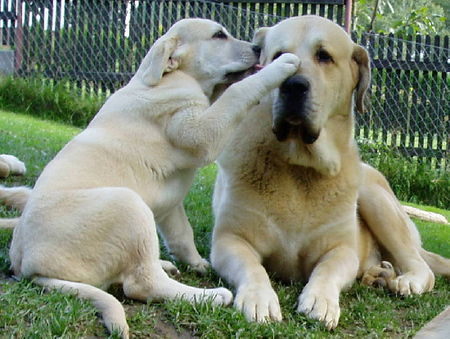mastin_espanol: (9, 17, 300, 339), (210, 14, 450, 330)
